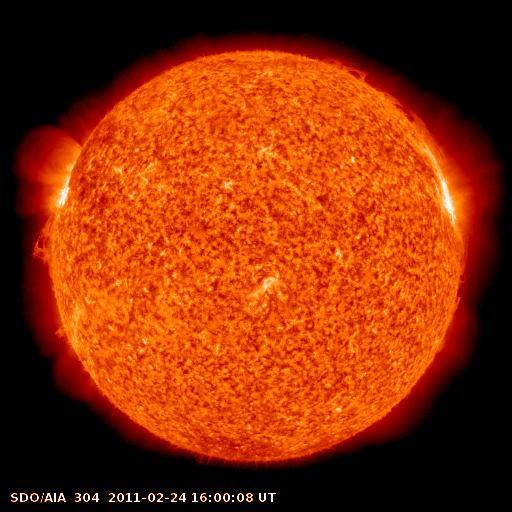prominence: (377, 85, 441, 147), (25, 218, 69, 280), (318, 47, 375, 82)
